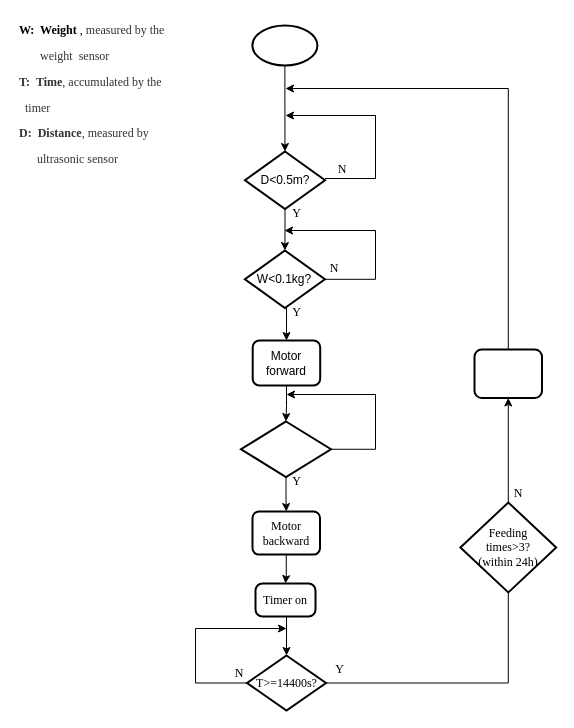
Some shapes in this 574 by 728 pixel diagram are drawn without their labels. The shapes that lost their labels are listed below. From the top down, each one's centre as x and y in pixels, then its label:
the point at 284,45: Start
the point at 507,373: Timer reset
the point at 286,449: W>0.5kg?
